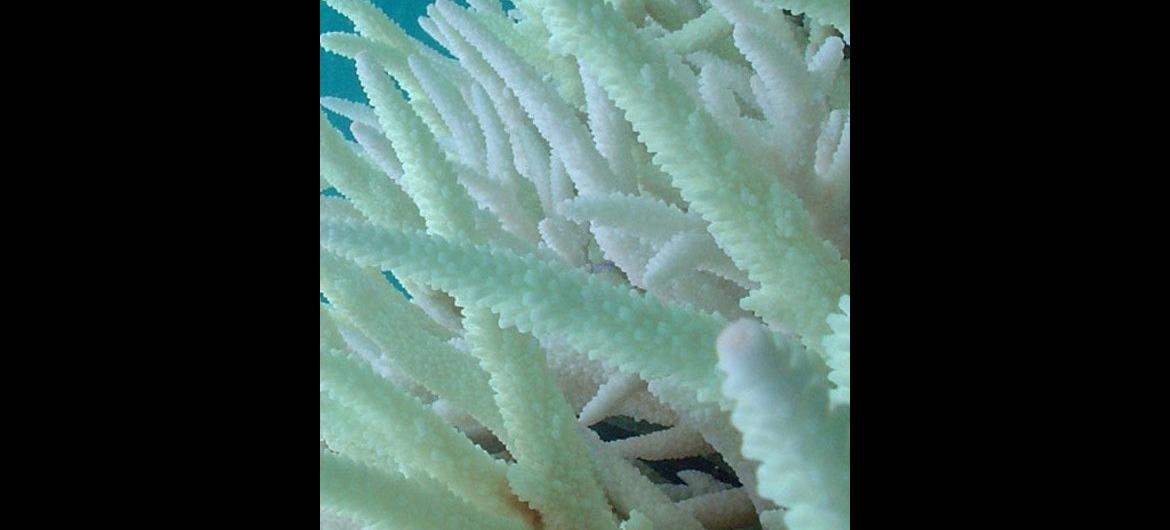bleached_corals: (320, 0, 849, 530)
